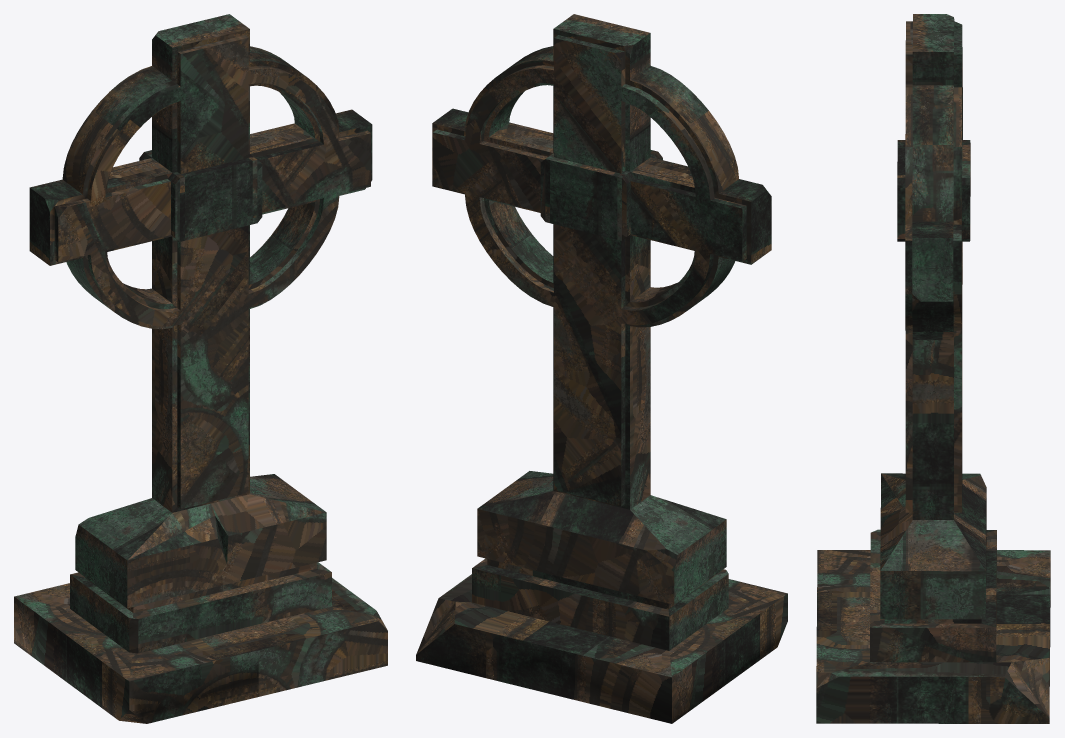
The model's file is gravestone_01.fbx.
3 renders of one model, left to right at view 1: azimuth 30°, elevation 25°; view 2: azimuth 150°, elevation 25°; view 3: azimuth 270°, elevation 25°, orthographic.
Parts seen in each view (by area): view 1: grave_stone_01.001; view 2: grave_stone_01.001; view 3: grave_stone_01.001.
Boxes of the visible parts, x1,y1,x2,y2 form: grave_stone_01.001: [14, 14, 387, 723]; grave_stone_01.001: [416, 14, 787, 723]; grave_stone_01.001: [816, 14, 1050, 723].
Bounding box in the file's own units: 54 × 99.94 × 33.81.
1 material, 1 textured.
